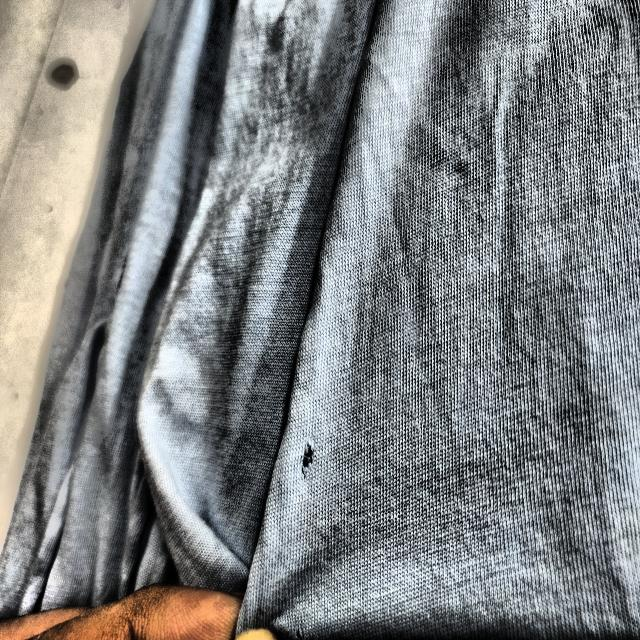Hole: (291, 433, 321, 488)
